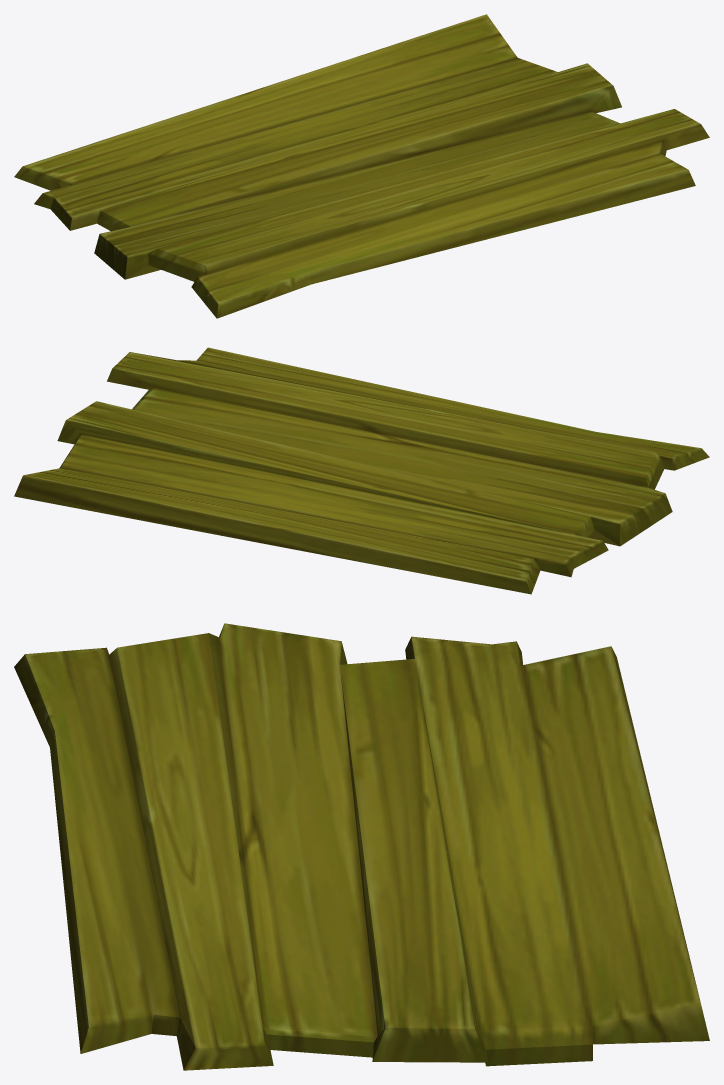
Rendered from mban2.FBX.
3 views of the same model, one above another, from view 1: azimuth 30°, elevation 25°; view 2: azimuth 150°, elevation 25°; view 3: azimuth 270°, elevation 25° (orthographic). The views are drawn at different scales.
Visible parts, largest first — view 1: Object002; view 2: Object002; view 3: Object002.
Boxes of the visible parts, left/top/right/bottom form: Object002: left=14, top=14, right=709, bottom=318; Object002: left=14, top=347, right=709, bottom=594; Object002: left=14, top=623, right=709, bottom=1070.
Bounding box in the file's own units: 192 × 11.7 × 130.
